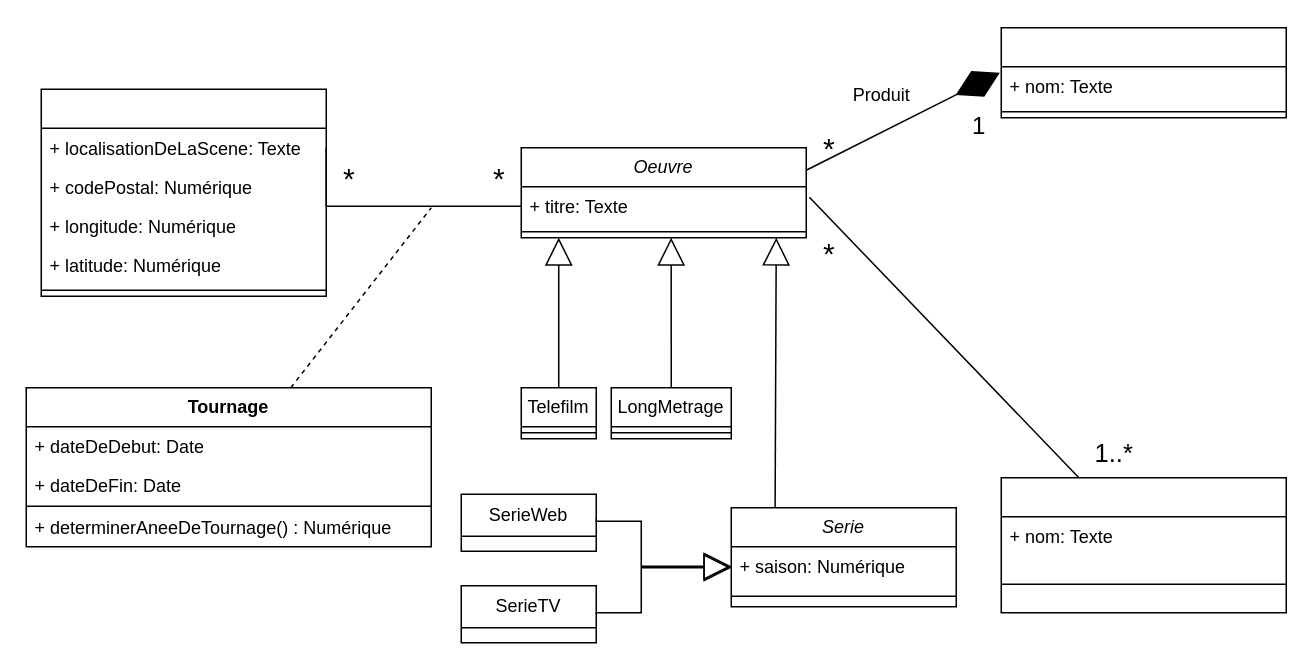
The diagram is 1313 pixels wide and 669 high, and some of its shapes have lost their labels. Each missing label, with the box of its shape:
Lieu: (40, 88, 326, 296)
Realisateur_ice: (1000, 476, 1286, 613)
SocieteDeProduction: (1000, 26, 1286, 118)
